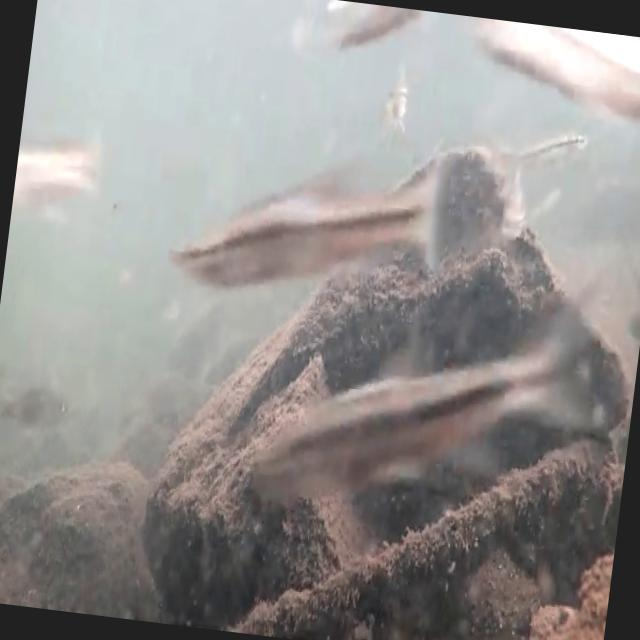Cakil Baligi: (251, 246, 600, 538), (164, 80, 454, 313)
